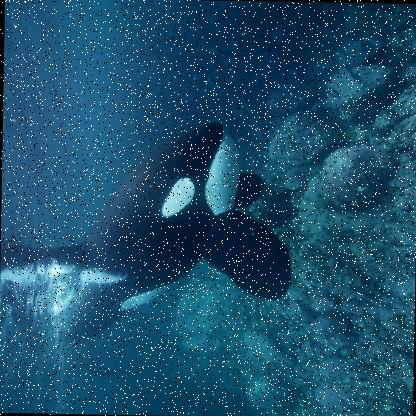killer_whale: (39, 115, 331, 350)
